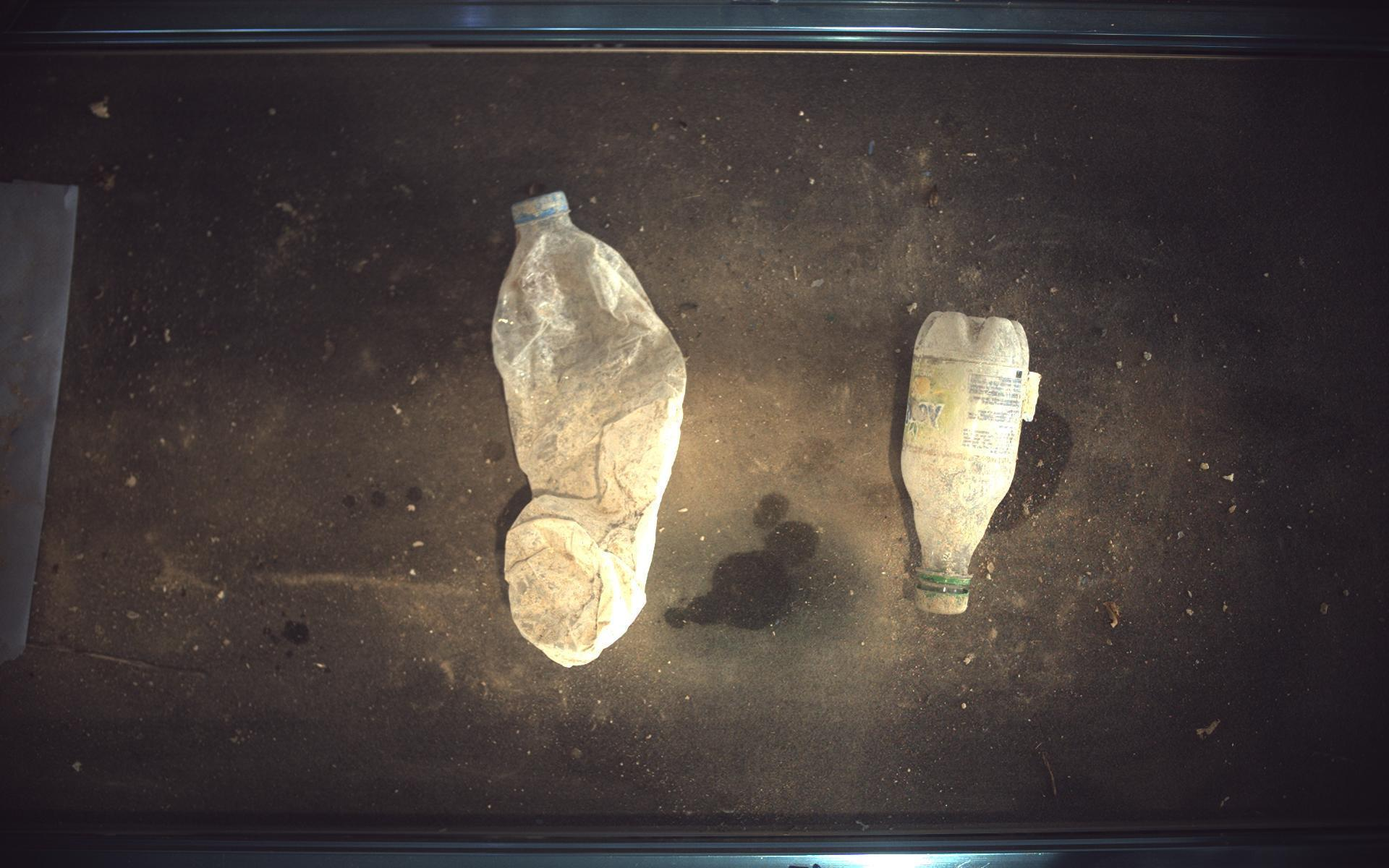general_w: (492, 191, 687, 668), (903, 311, 1042, 615)
